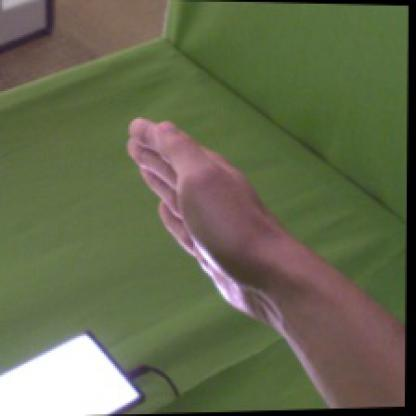Hand: (127, 118, 269, 323)
